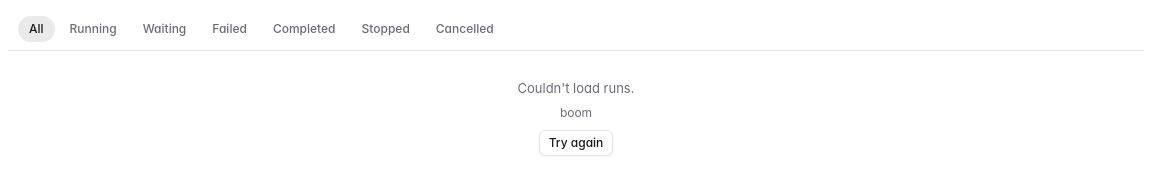
Test: RunList › shows a retryable error
expect the text "Couldn't load runs." is shown: met, box [518,80,634,96]
Click the button "Try again" at [576, 143], box [539,130,613,156]
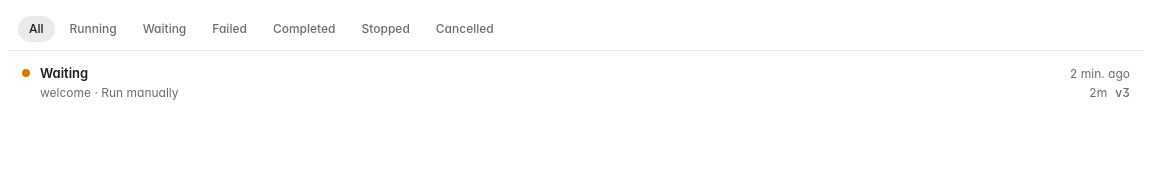
expect the button "Waiting 2 min. ago welcome · Run manually 2m v3" is shown: met, box [12,55,1140,111]
